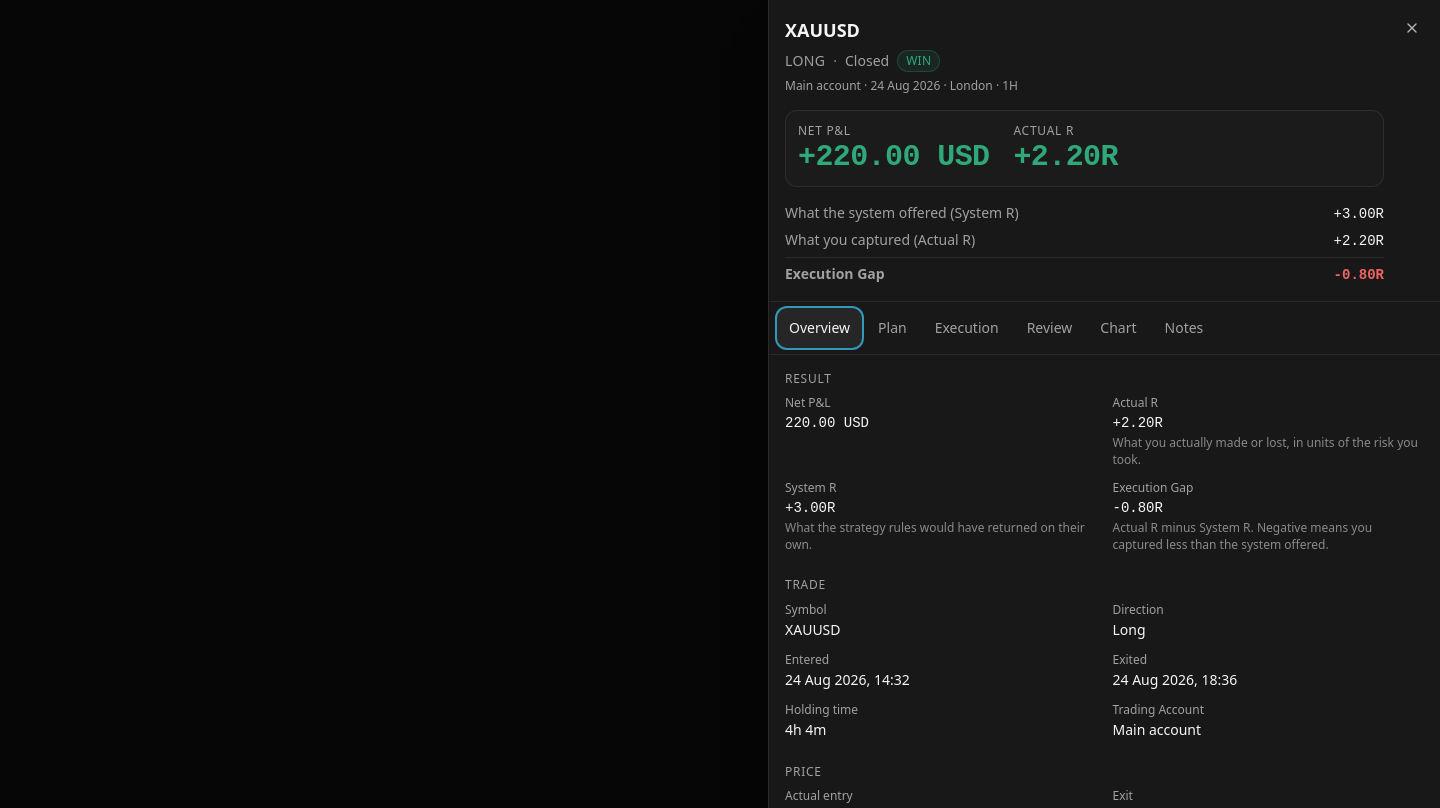
Scenario: Trade Details — Review › carries the discipline surfaces rather than generic tags
What coordinates should you click on to do the following:
click the tab "Review"
I would click on:
 (1049, 328)
Its box is [1015, 308, 1084, 348].
(page scrolled)
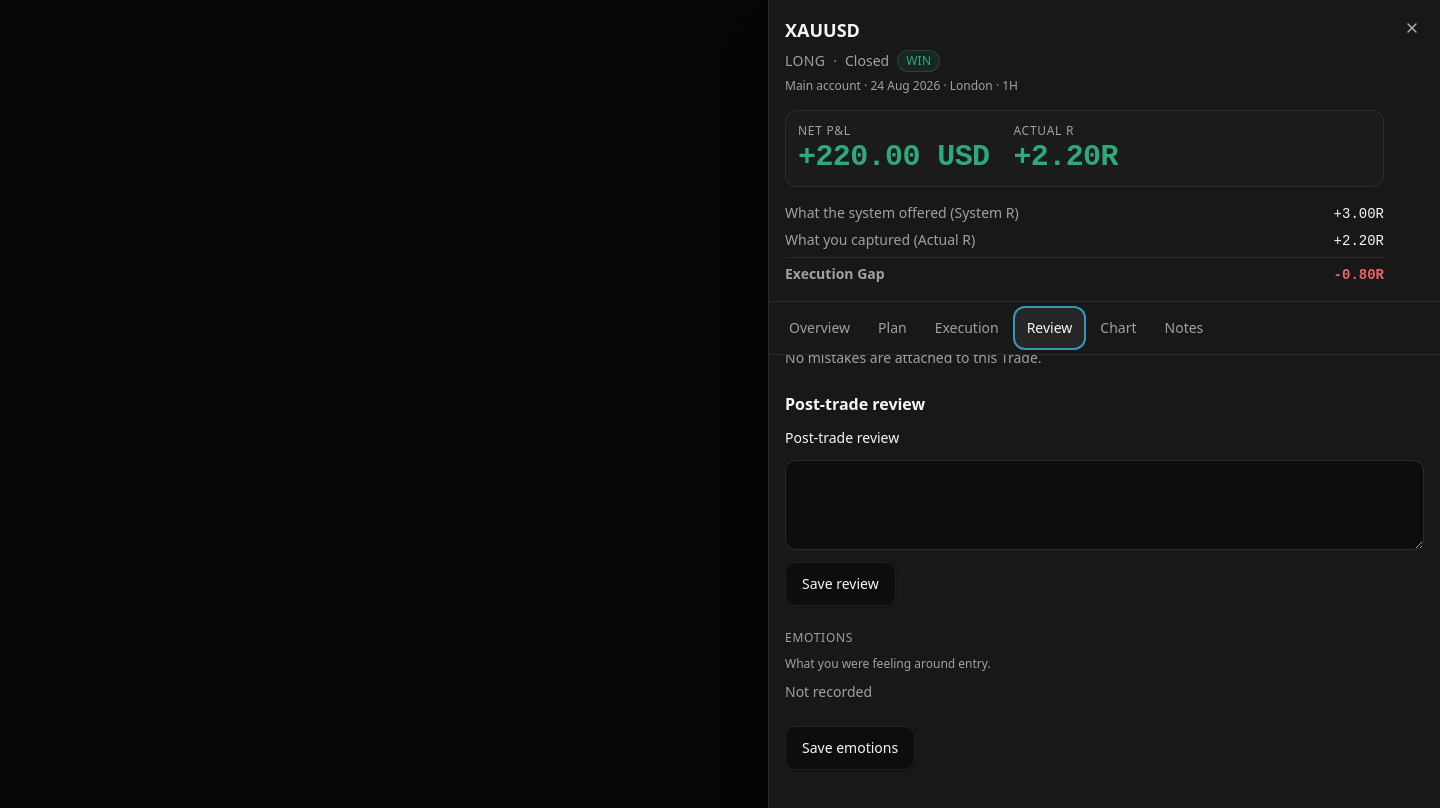
Expected: the heading "Emotions" is shown, [785, 629, 853, 646]
